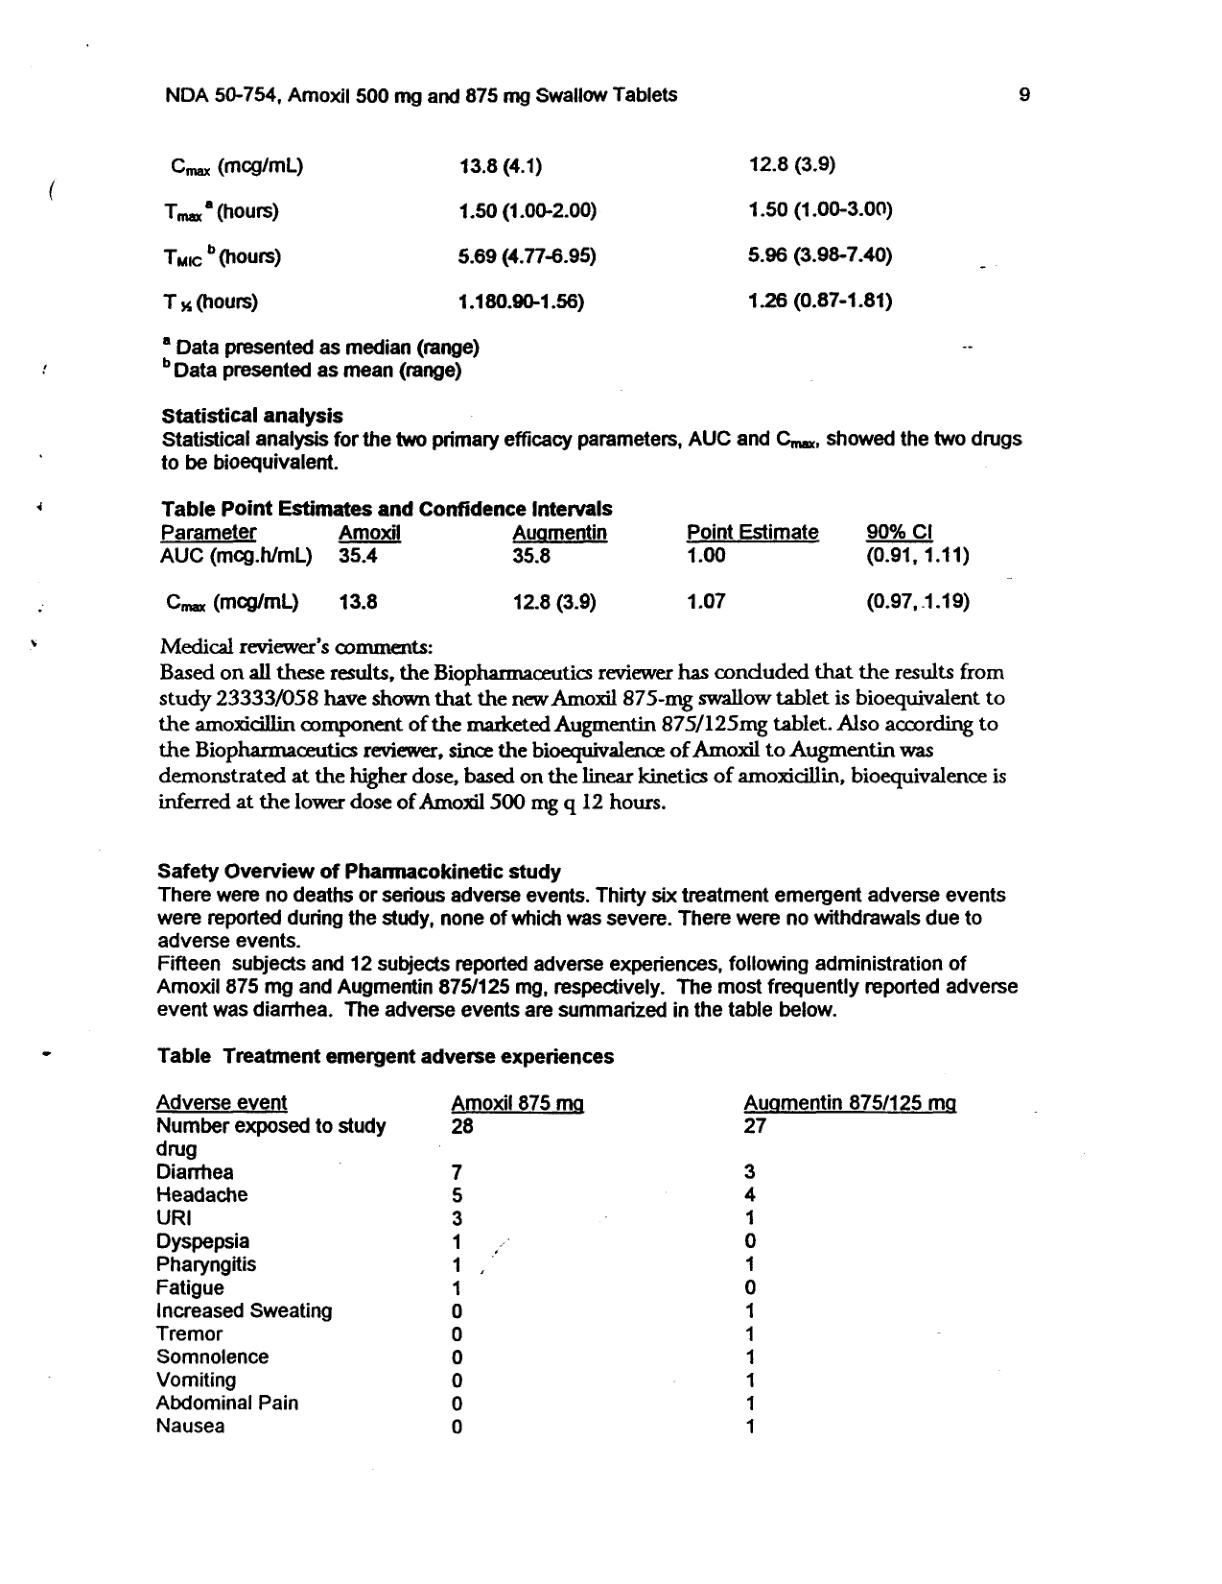nolines: (153, 1092, 961, 1436), (160, 154, 896, 314), (158, 522, 973, 611)
